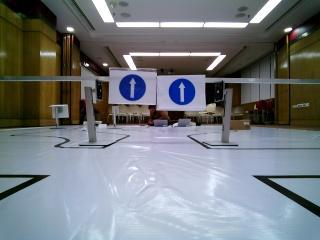straight: (158, 75, 204, 109), (111, 69, 155, 103)
